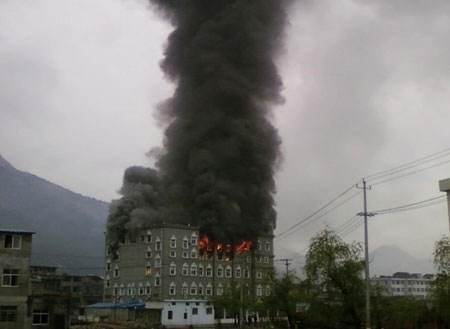fire: (197, 235, 252, 255)
